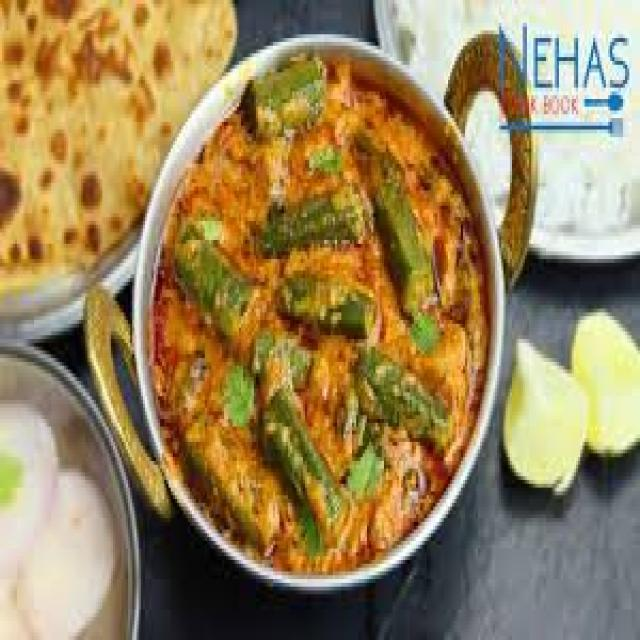Bhindi Masala: (152, 60, 492, 580)
